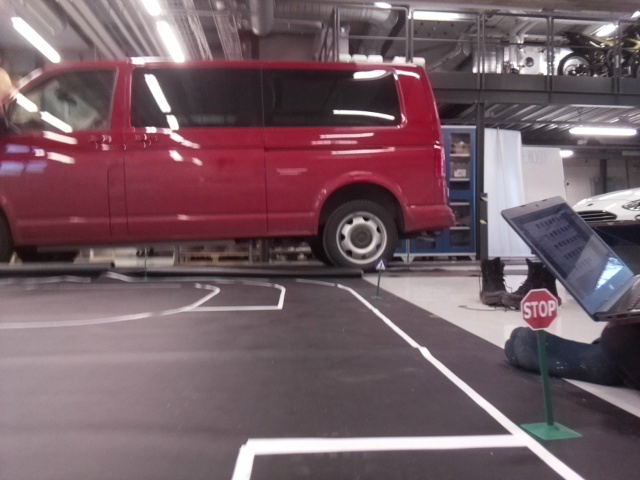Stop: (518, 289, 558, 329)
